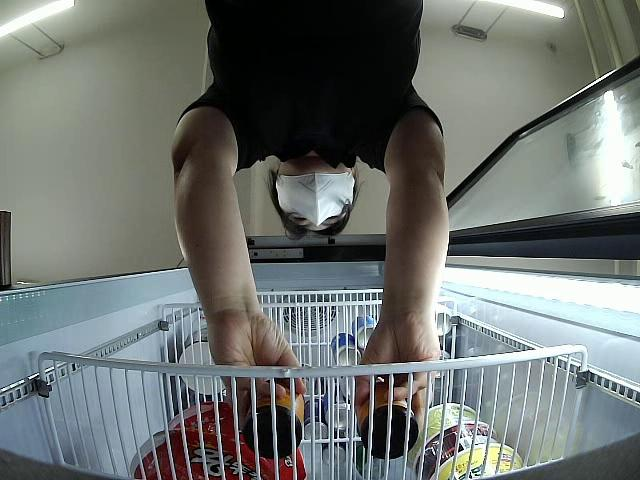00_hand: (211, 310, 305, 427), (351, 321, 437, 415)
17_vita500: (243, 371, 305, 458), (353, 380, 419, 459)
